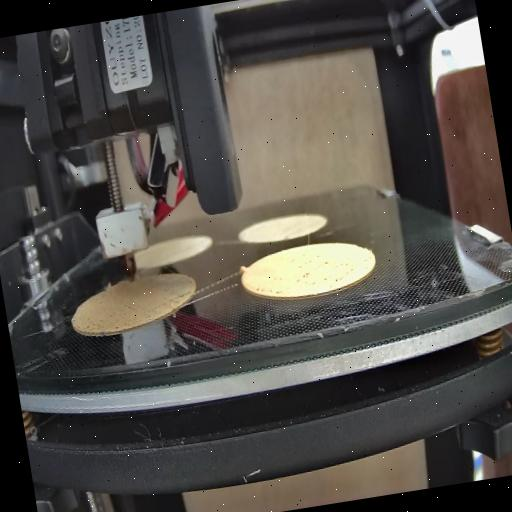under_extrusion: (290, 244, 362, 292), (80, 306, 120, 338), (162, 282, 196, 310), (250, 278, 282, 304)
